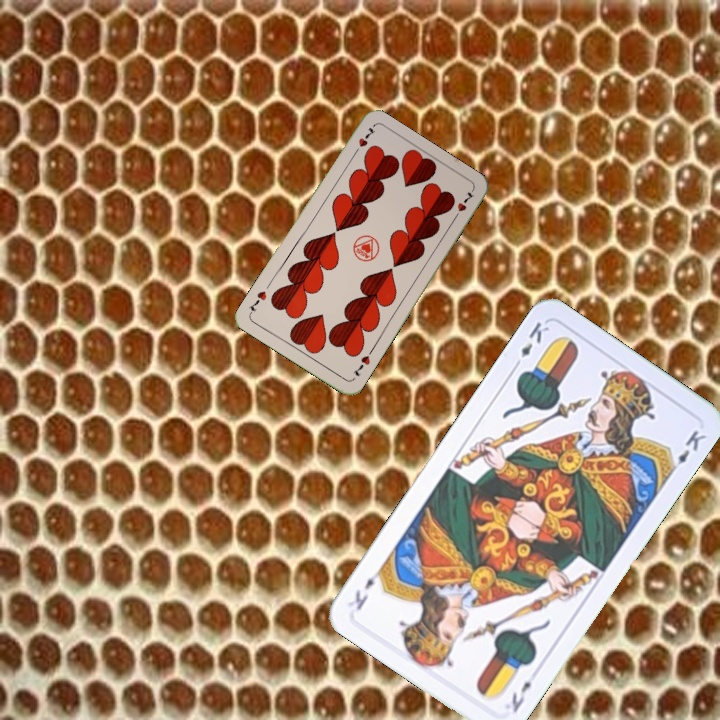EK: (509, 318, 552, 372), (507, 677, 535, 716)
H7: (349, 123, 378, 158), (348, 345, 375, 379)
